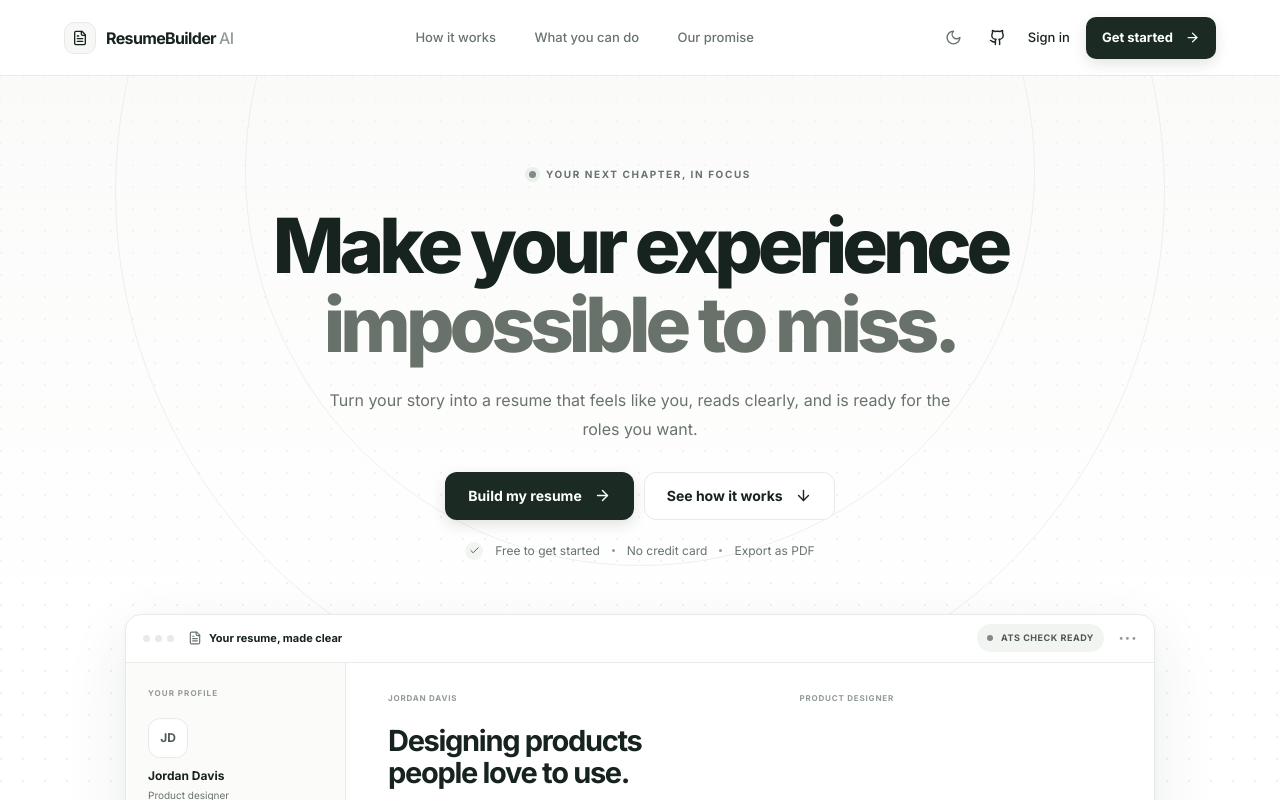
Test: Landing page › links to GitHub and lets visitors switch themes
Click the button named "Switch to dark mode": x=954, y=38 [936, 20, 972, 56]
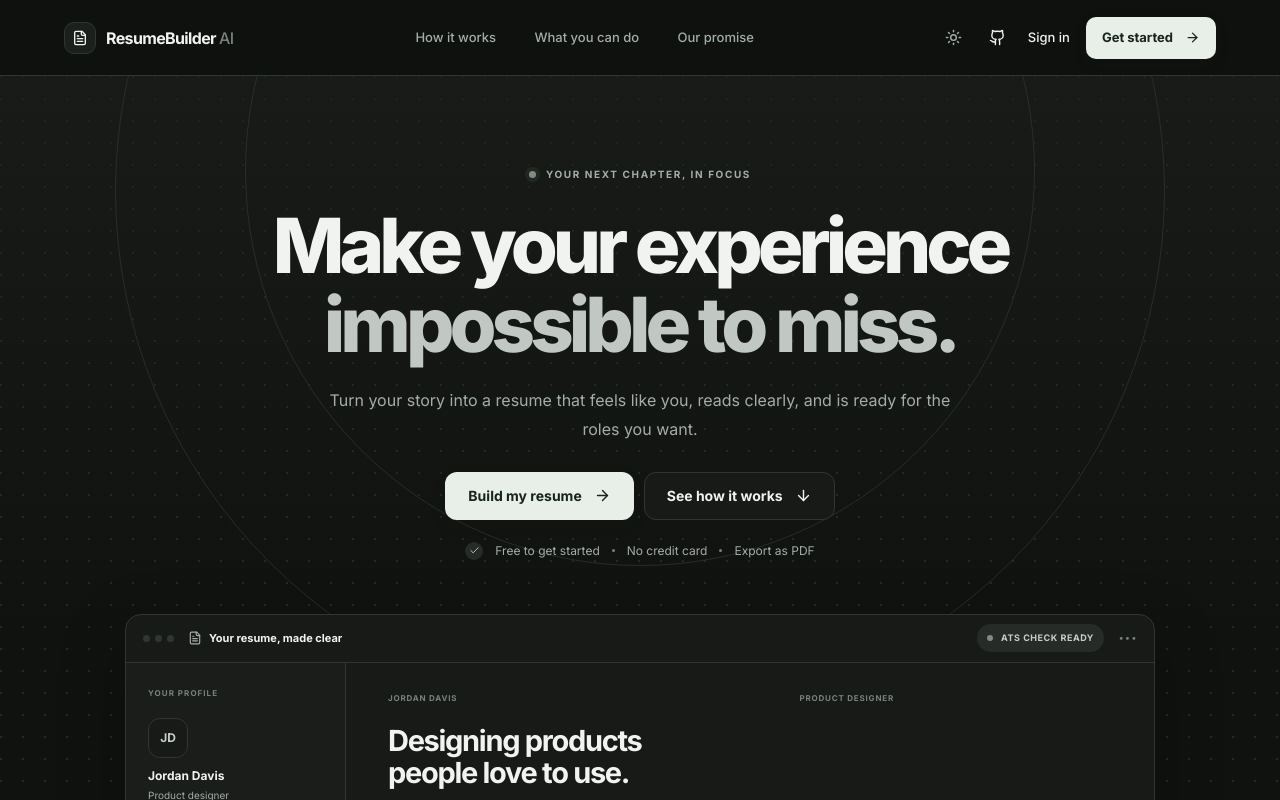
Expected: the button named "Switch to light mode" is shown, [936, 20, 972, 56]
